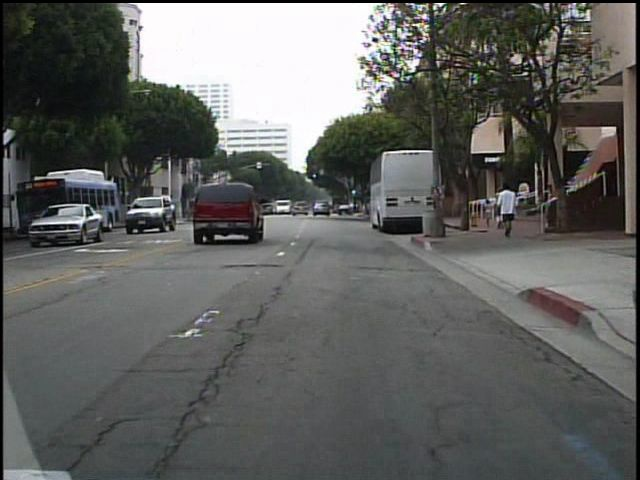person: (498, 178, 523, 240), (542, 179, 559, 234), (482, 195, 496, 229)
